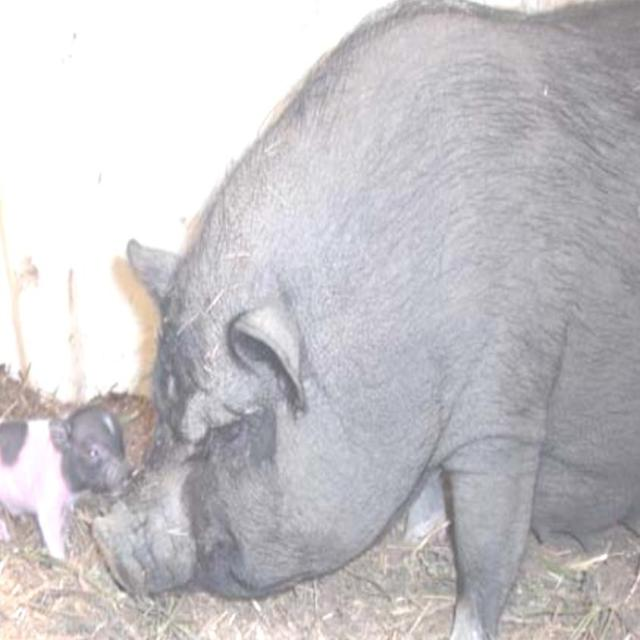pig: (96, 3, 640, 637), (0, 406, 129, 559)
